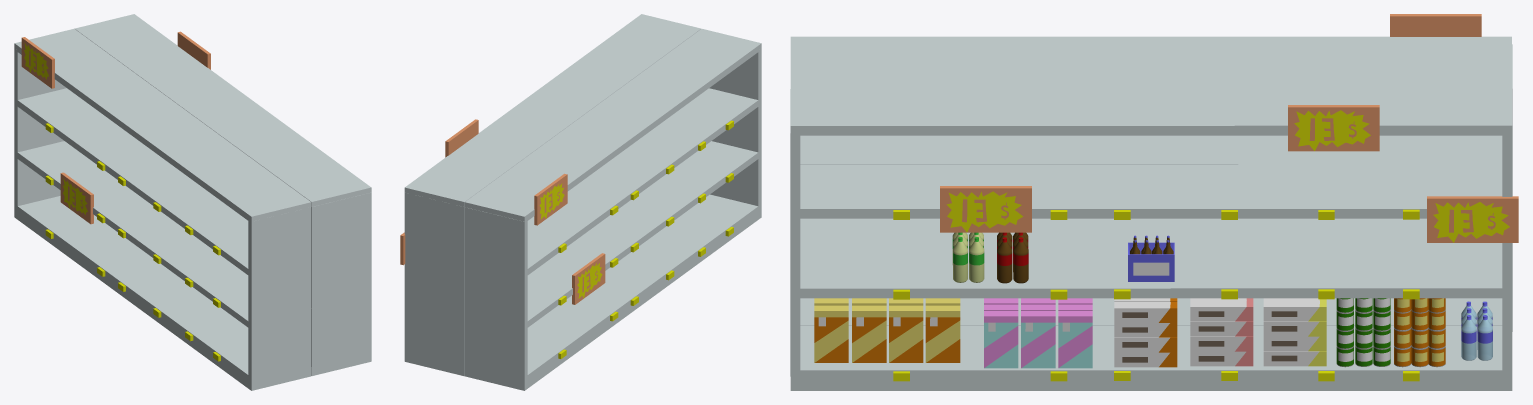
The model's file is Shelf.fbx.
3 renders of one model, left to right at view 1: azimuth 30°, elevation 25°; view 2: azimuth 150°, elevation 25°; view 3: azimuth 270°, elevation 25°, orthographic. The views are drawn at different scales.
Visible parts, largest first — view 1: base_shelve (×2), promo (×2), promo3; view 2: base_shelve (×2), promo (×2), promo3; view 3: base_shelve (×2), cereale_box4 (×4), promo (×2), cereale_box_variant4 (×3), cake_box_variant3 (×4), cake_box_variant6 (×4), cake_box3 (×4), promo4, promo3, carton_beer, cola5 (×2), cola4 (+2 smaller).
Boxes of the visible parts, x1=… form: base_shelve (×2): x1=14, y1=14, x2=371, y2=390; promo (×2): x1=21, y1=31, x2=210, y2=88; promo3: x1=60, y1=172, x2=93, y2=224; base_shelve (×2): x1=404, y1=14, x2=761, y2=390; promo (×2): x1=445, y1=119, x2=567, y2=225; promo3: x1=572, y1=253, x2=605, y2=304; base_shelve (×2): x1=790, y1=36, x2=1512, y2=390; cereale_box4 (×4): x1=814, y1=305, x2=960, y2=362; promo (×2): x1=1288, y1=14, x2=1481, y2=151; cereale_box_variant4 (×3): x1=984, y1=311, x2=1092, y2=368; cake_box_variant3 (×4): x1=1190, y1=300, x2=1253, y2=366; cake_box_variant6 (×4): x1=1263, y1=300, x2=1326, y2=366; cake_box3 (×4): x1=1114, y1=302, x2=1177, y2=367; promo4: x1=940, y1=186, x2=1031, y2=232; promo3: x1=1427, y1=196, x2=1518, y2=242; carton_beer: x1=1128, y1=242, x2=1174, y2=281; cola5 (×2): x1=969, y1=237, x2=1028, y2=283; cola4: x1=997, y1=237, x2=1012, y2=283.
Bounding box in the file's own units: 1.22 × 1.75 × 4.04.
